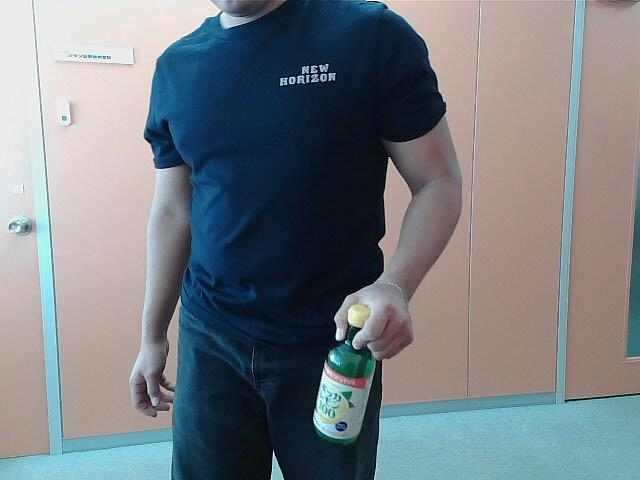Lemon_sapporo: (317, 299, 381, 446)
